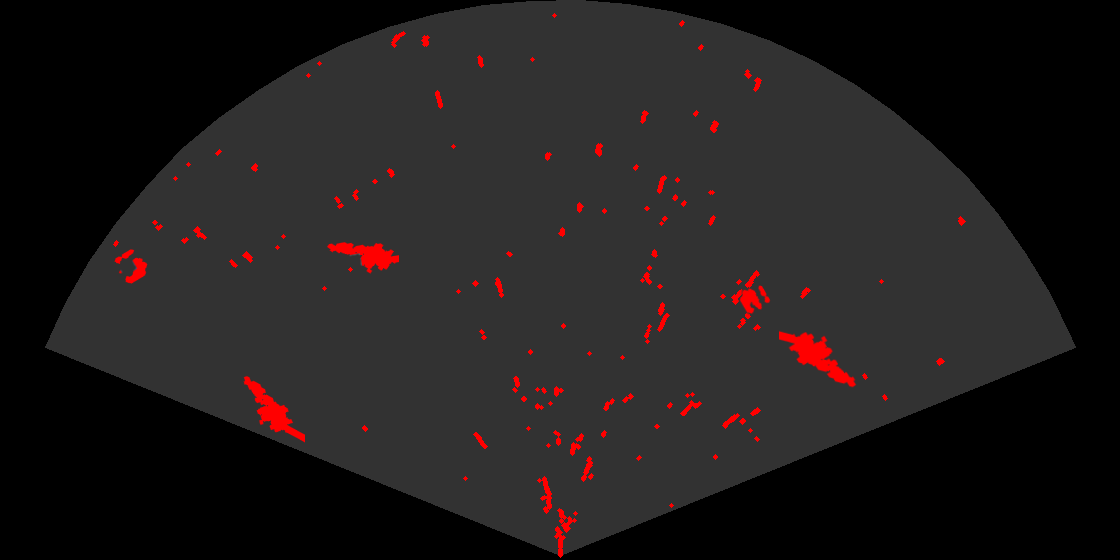ball: (113, 248, 149, 285), (738, 284, 772, 315)
frogman: (779, 329, 858, 389), (242, 374, 305, 443), (325, 241, 399, 275)
